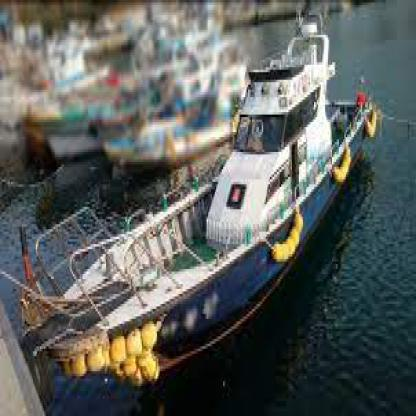fish-b: (6, 22, 396, 394)
